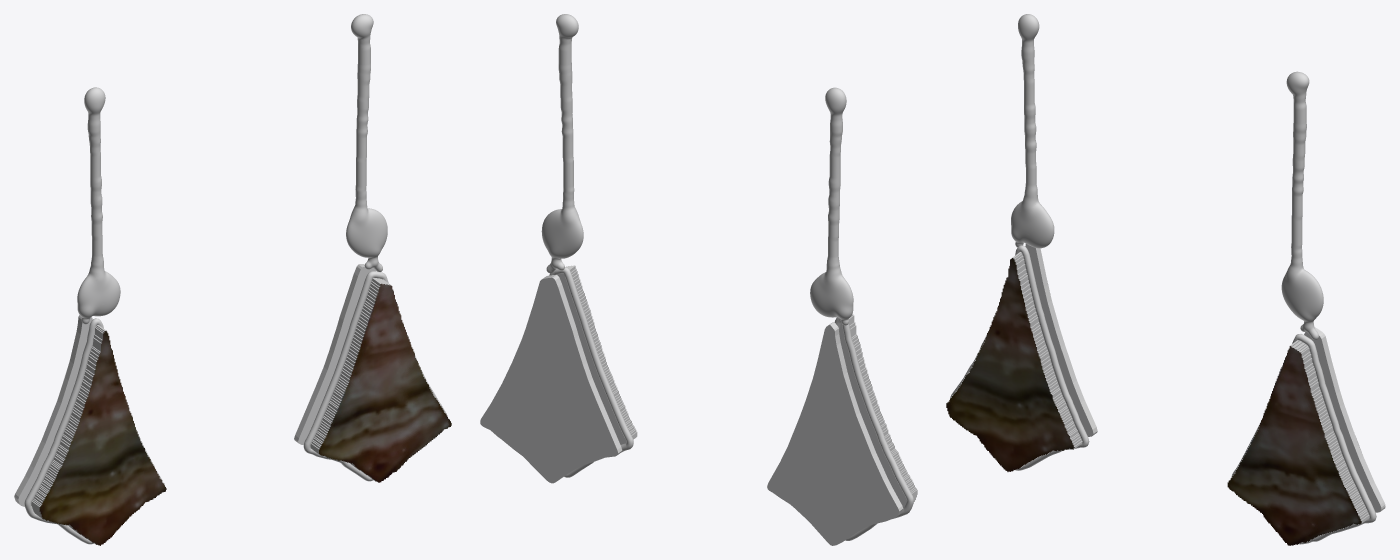
3 views of the same model, side by side, from view 1: azimuth 30°, elevation 25°; view 2: azimuth 150°, elevation 25°; view 3: azimuth 330°, elevation 25° (orthographic).
Parts seen in each view (by area): view 1: joya; view 2: joya; view 3: joya.
Part boxes in pixels (box(x1,y1,x2,y2)): joya: box(14, 14, 451, 545); joya: box(480, 14, 917, 545); joya: box(946, 14, 1385, 545).
Bounding box in the file's own units: 0.036 × 0.0379 × 0.00325.
Materials: 2 (1 with a texture image).
